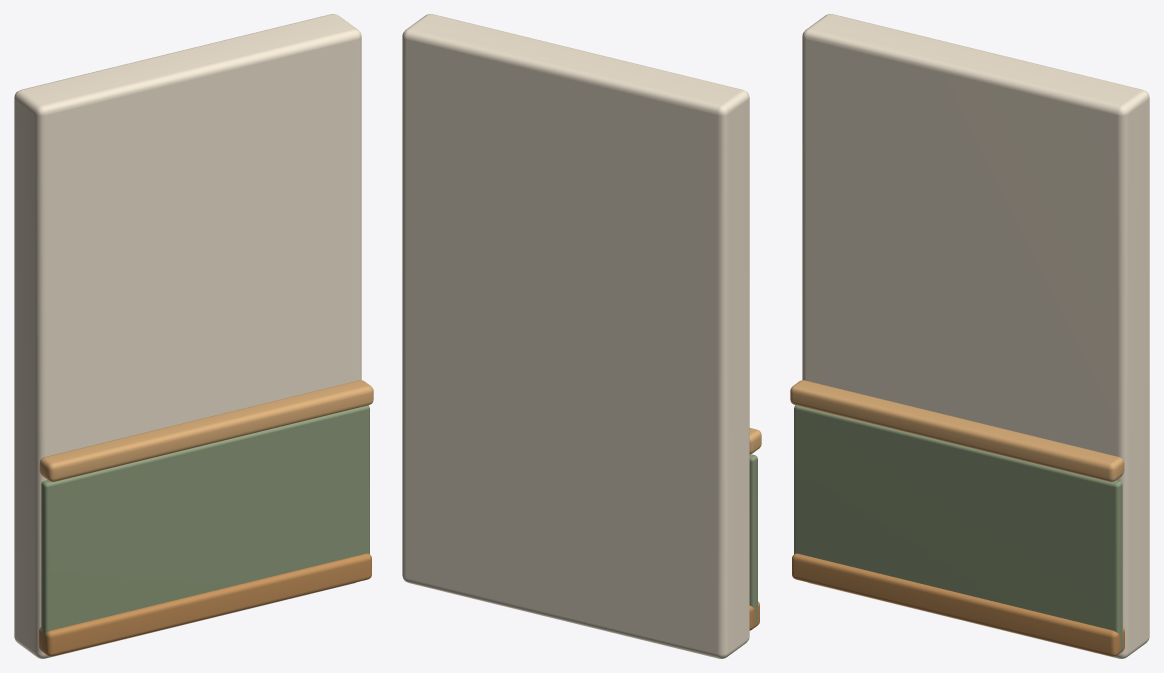
Rendered from wall-panel.obj.
The picture shows the model from 3 angles, left to right: view 1: azimuth 30°, elevation 25°; view 2: azimuth 150°, elevation 25°; view 3: azimuth 330°, elevation 25°; orthographic projection.
Visible parts, largest first — view 1: wall-panel_ivory, wall-panel_sage, wall-panel_oakLight, wall-panel_oak; view 2: wall-panel_ivory, wall-panel_sage; view 3: wall-panel_ivory, wall-panel_sage, wall-panel_oakLight, wall-panel_oak.
Part boxes in pixels (x1=…): wall-panel_ivory: x1=14, y1=14, x2=361, y2=658; wall-panel_sage: x1=41, y1=405, x2=369, y2=649; wall-panel_oakLight: x1=39, y1=380, x2=373, y2=481; wall-panel_oak: x1=39, y1=553, x2=371, y2=656; wall-panel_ivory: x1=402, y1=14, x2=749, y2=658; wall-panel_sage: x1=749, y1=454, x2=757, y2=624; wall-panel_ivory: x1=802, y1=14, x2=1149, y2=658; wall-panel_sage: x1=794, y1=405, x2=1122, y2=649; wall-panel_oakLight: x1=790, y1=380, x2=1124, y2=481; wall-panel_oak: x1=792, y1=553, x2=1124, y2=656.
Size of the model in its own units: 0.8 by 1.3 by 0.1675.
